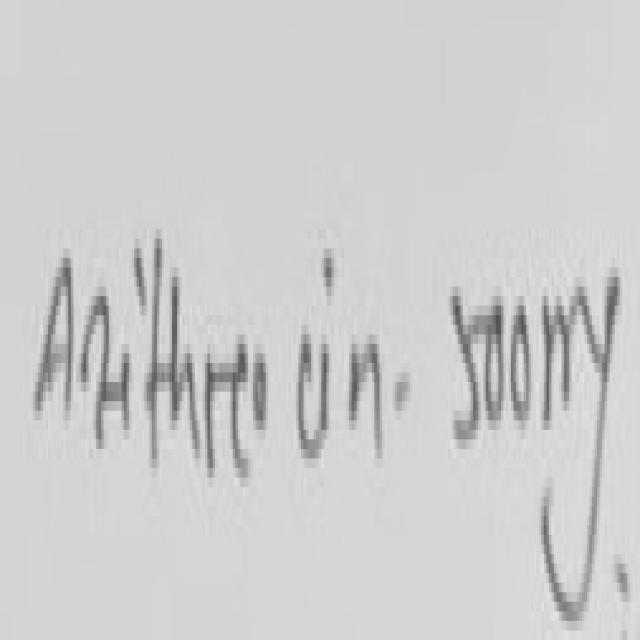0: (506, 278, 535, 471), (482, 272, 508, 464)
5: (438, 256, 486, 480)
A: (19, 198, 84, 474)
c: (290, 311, 322, 486)
g: (518, 248, 629, 640)
h: (167, 240, 205, 505)
i: (313, 214, 341, 456), (120, 224, 146, 482)
m: (532, 249, 594, 456)
n: (339, 300, 392, 516)
o: (246, 332, 278, 475)
r: (201, 294, 252, 505)
t: (140, 179, 170, 496)
z: (76, 256, 118, 468)
